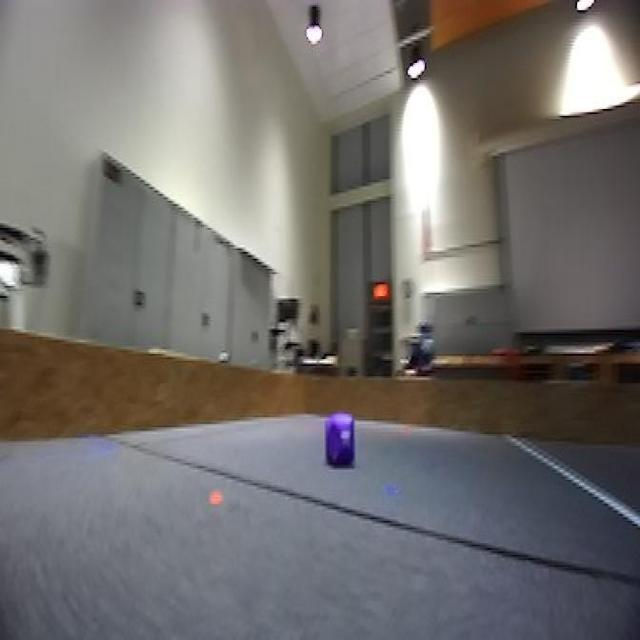frc_cube: (325, 414, 358, 469)
